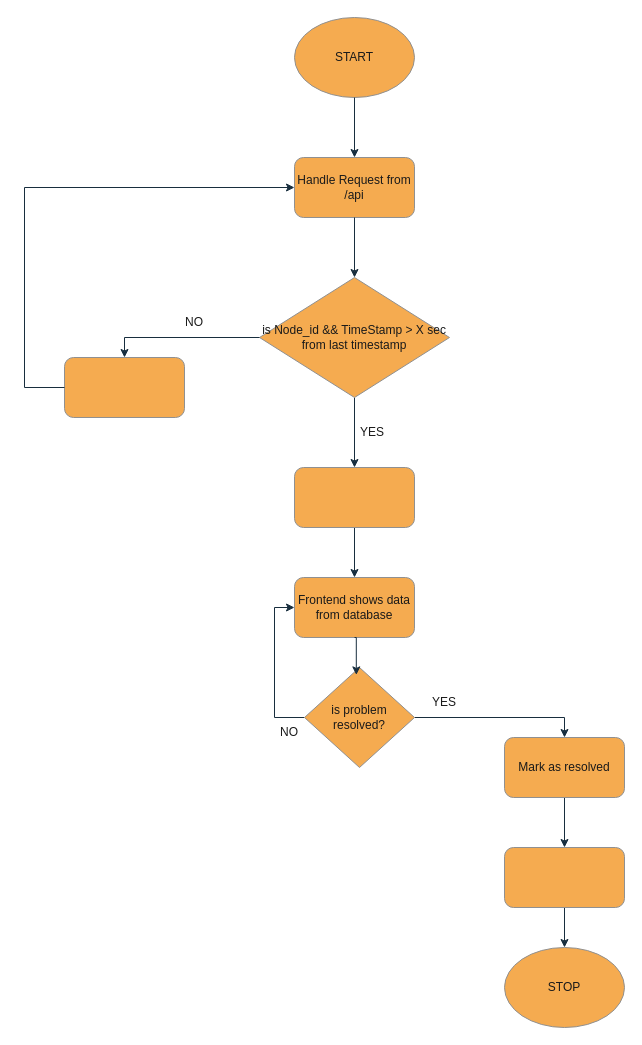
This 642x1045 diagram has some shape labels left out. The box of each missing label's shape, as (x1, y1, x2, y2) in pixels:
Append to DB: (294, 466, 414, 528)
Delete from DB: (504, 846, 624, 908)
Ignore request: (64, 356, 184, 418)
